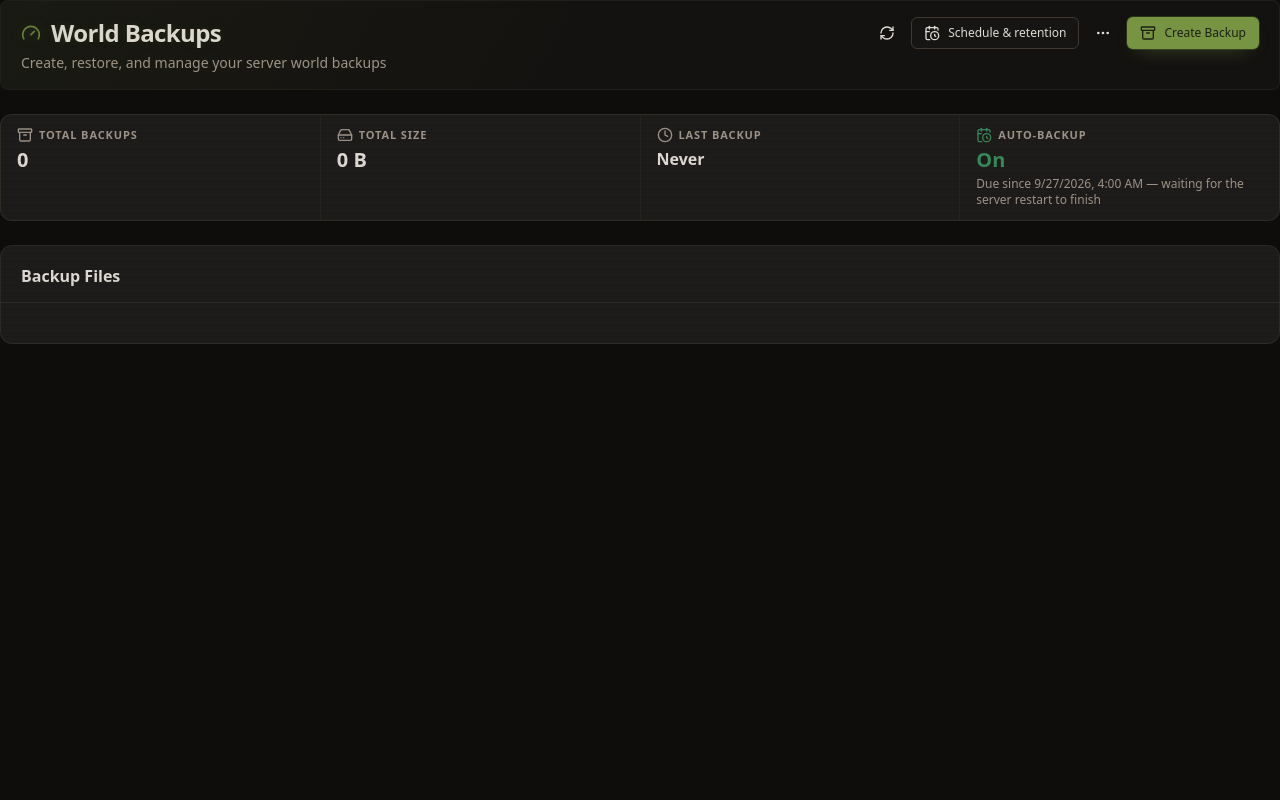
Test: Backups.tsx: scheduled backups and scheduled restarts › re-checks while a backup waits on a restart, so a stuck restart shows up without a manual refresh -- and leaves form edits alone
Expected: the text "waiting for the server restart to finish" is shown, [976, 176, 1244, 208]
# An unsaved edit in the settings form meanwhile.
Click the button "Schedule & retention" at (995, 33), box [911, 17, 1079, 49]
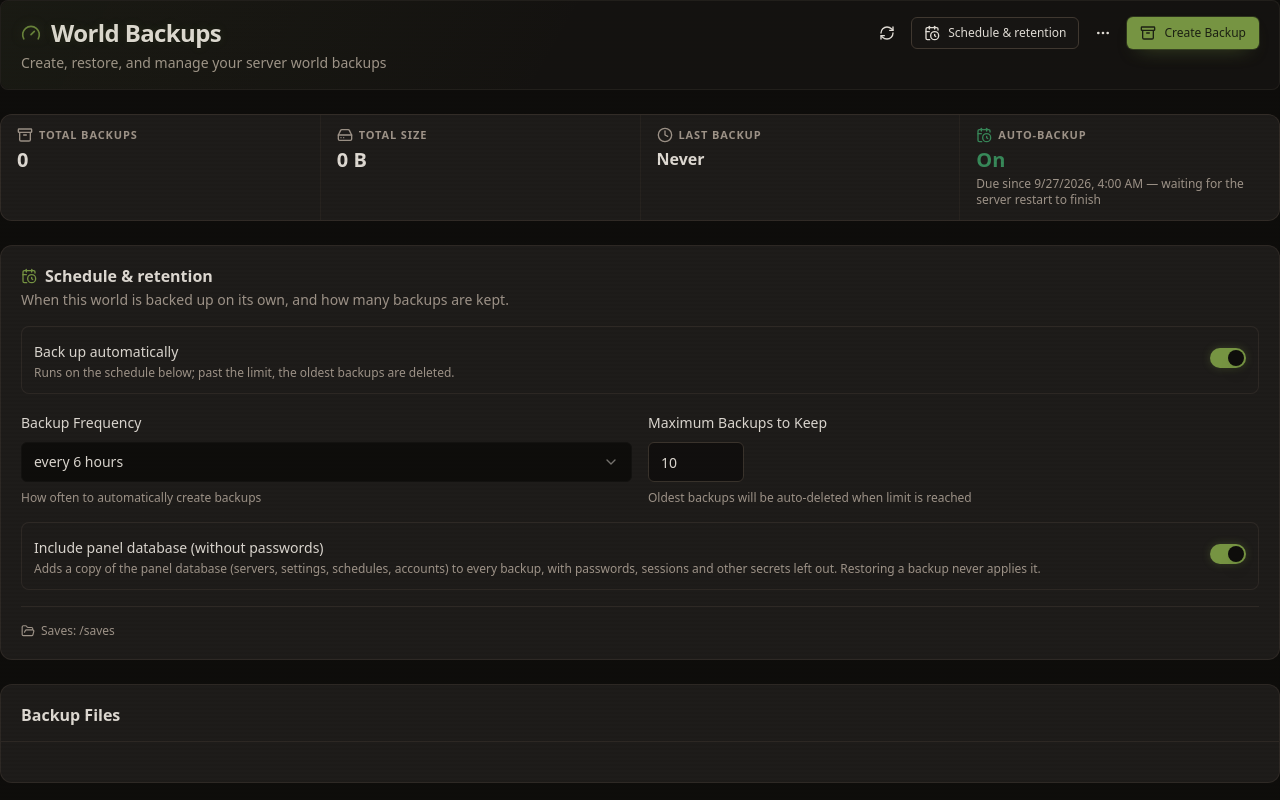
Replace the text in the number field labelled "Maximum Backups to Keep" with "25" at (696, 462), box [648, 442, 744, 482]
Wait 15000 ms
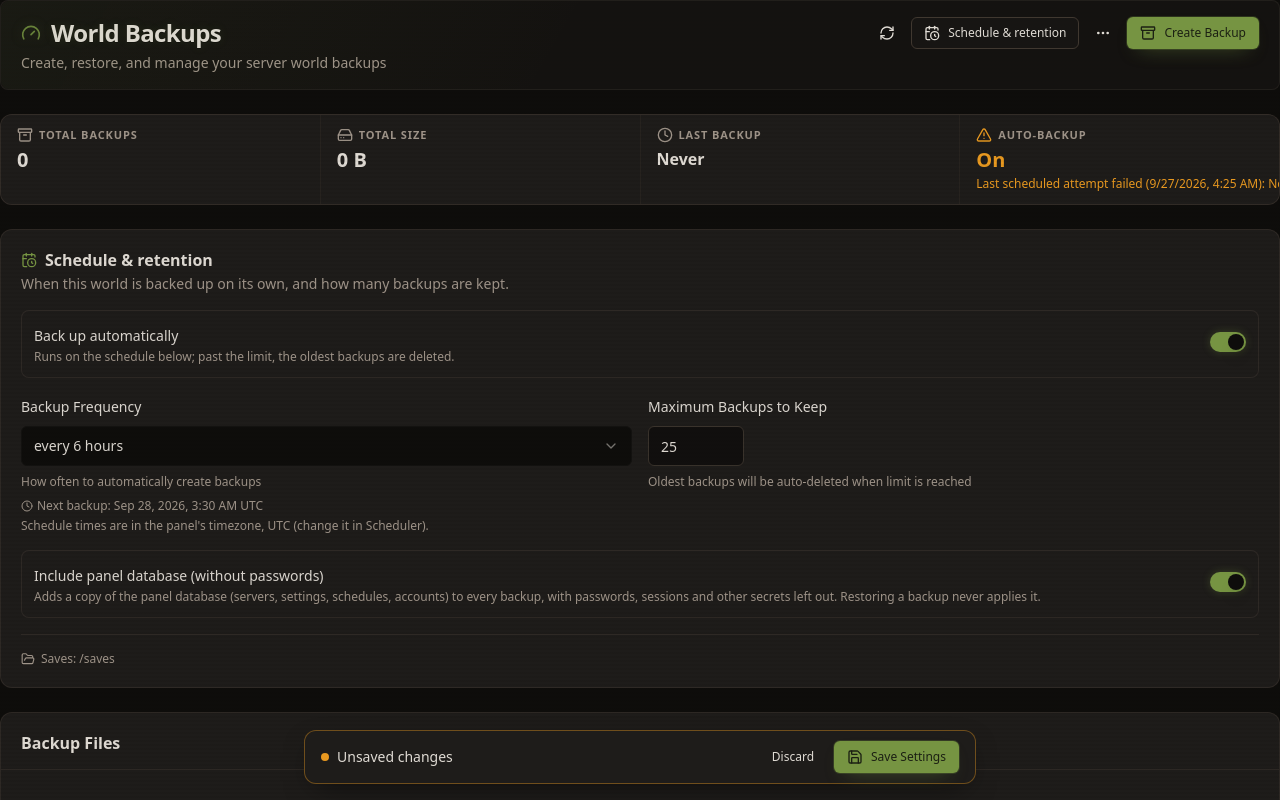
Now the button "waiting for the server restart to finish" is gone
